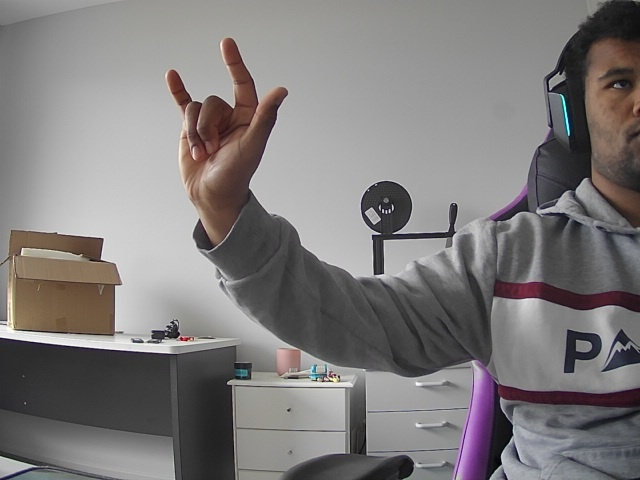ILoveYou: (135, 29, 308, 219)
